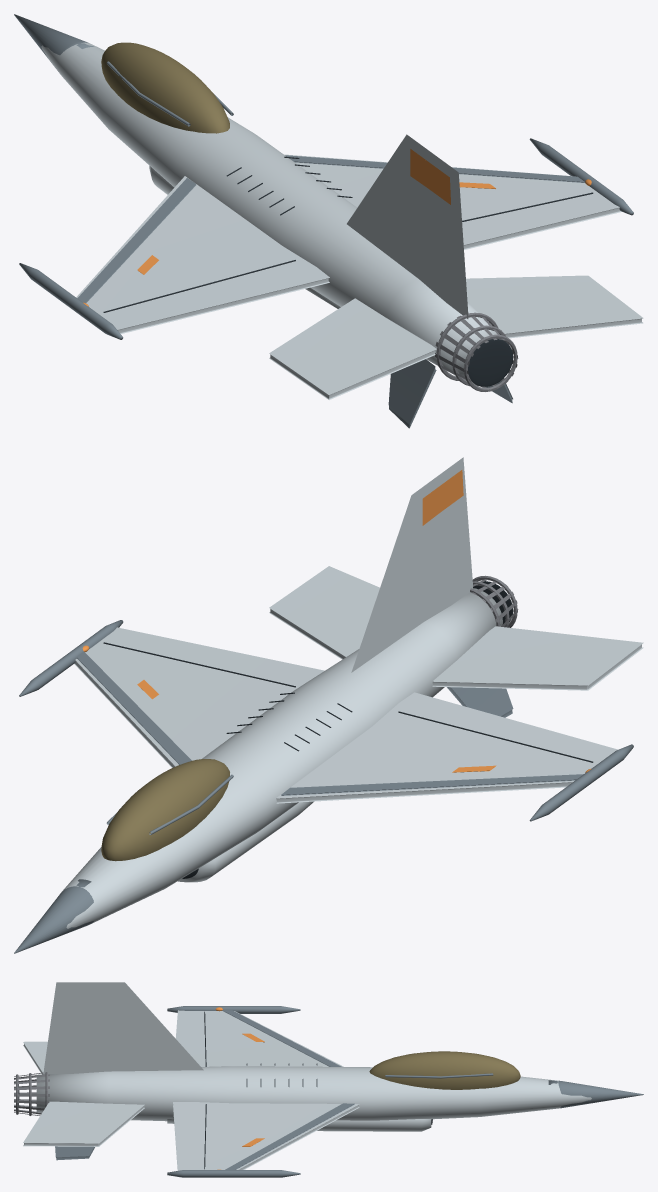
Rendered from viper.glb.
The picture shows the model from 3 angles, top to bottom: view 1: azimuth 30°, elevation 25°; view 2: azimuth 150°, elevation 25°; view 3: azimuth 270°, elevation 25°; orthographic projection. The views are drawn at different scales.
Visible parts, largest first — view 1: Cloud grey, Radar edge panels, Gold tinted canopy, Intakes and seams, Exhaust petals, Identification; view 2: Cloud grey, Radar edge panels, Gold tinted canopy, Identification, Intakes and seams, Exhaust petals; view 3: Cloud grey, Radar edge panels, Gold tinted canopy, Exhaust petals, Intakes and seams.
Boxes of the visible parts, <box> form: Cloud grey: <box>41,42,643,399</box>; Radar edge panels: <box>14,14,633,428</box>; Gold tinted canopy: <box>101,42,229,133</box>; Intakes and seams: <box>103,156,593,386</box>; Exhaust petals: <box>435,312,518,391</box>; Identification: <box>83,149,591,306</box>; Cloud grey: <box>62,457,643,928</box>; Radar edge panels: <box>14,620,633,953</box>; Gold tinted canopy: <box>101,759,229,861</box>; Identification: <box>82,470,591,772</box>; Intakes and seams: <box>103,581,593,878</box>; Exhaust petals: <box>470,575,518,627</box>; Cloud grey: <box>23,982,591,1170</box>; Radar edge panels: <box>55,1006,643,1177</box>; Gold tinted canopy: <box>369,1051,520,1089</box>; Exhaust petals: <box>14,1072,49,1115</box>; Intakes and seams: <box>18,1011,432,1169</box>.
Size of the model in its own units: 12.14 by 5.44 by 19.33.
